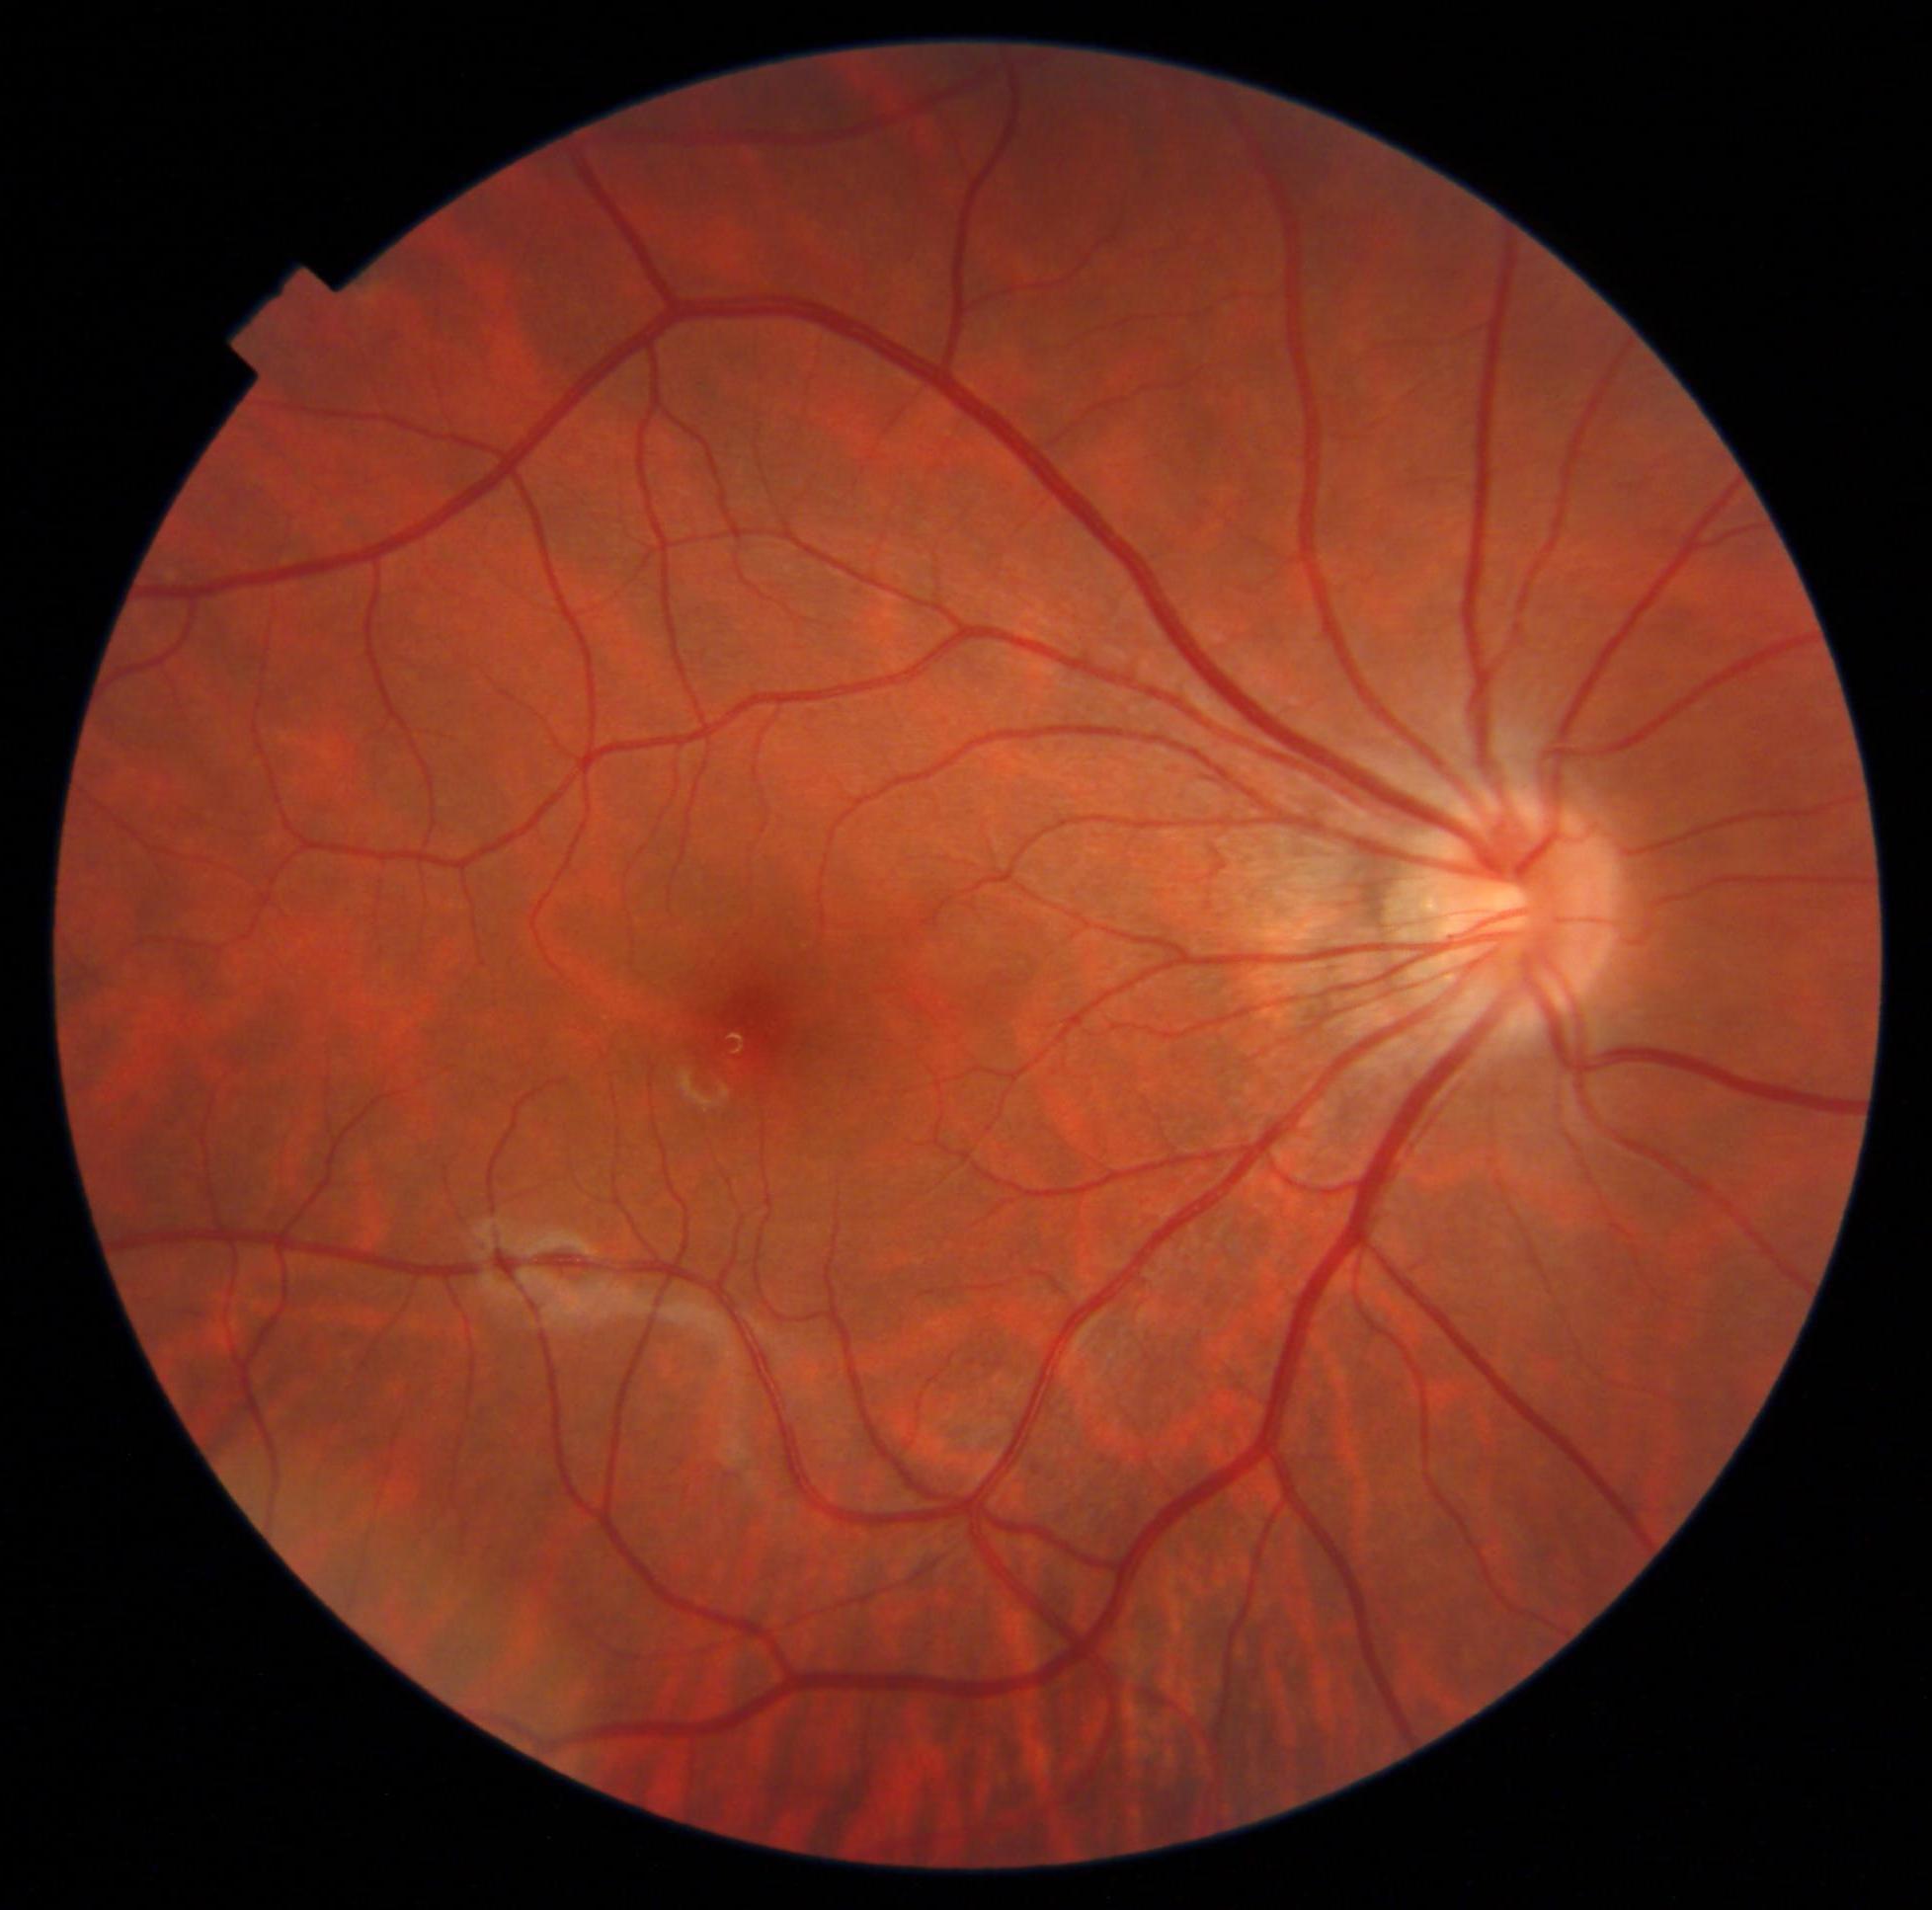Fovea: (686, 953, 840, 1104)
